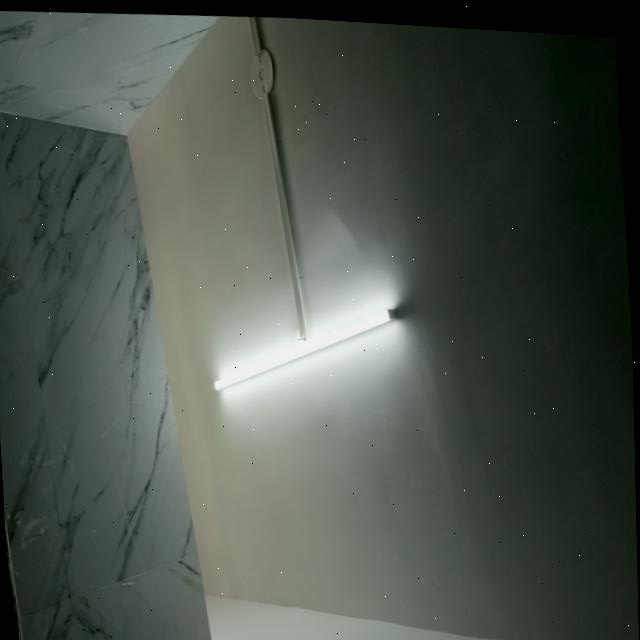fluorescent tube: (207, 281, 410, 407)
